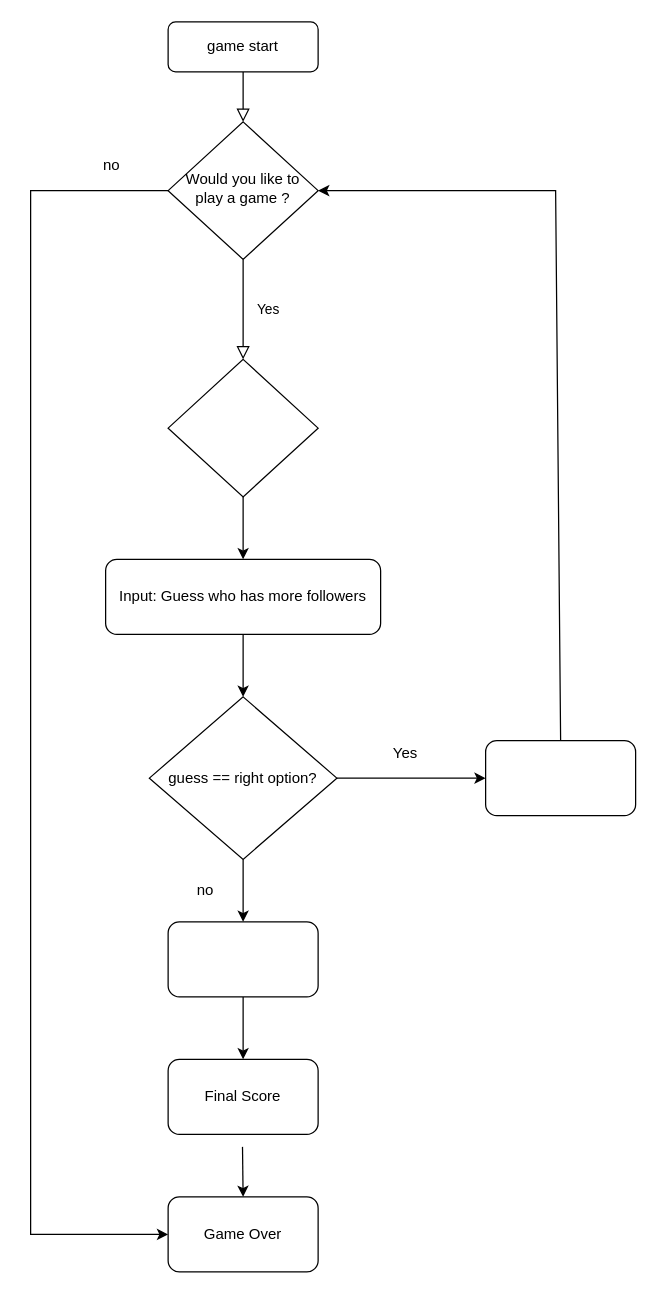
Image size: 658x1294. Some labels were removed from this diagram. The box of each missing label's shape, as (x1, y1, x2, y2) in pixels:
Score += 1: (484, 739, 636, 816)
Sort two options from the Data: (167, 358, 318, 497)
Wrong answer...: (167, 921, 318, 997)
